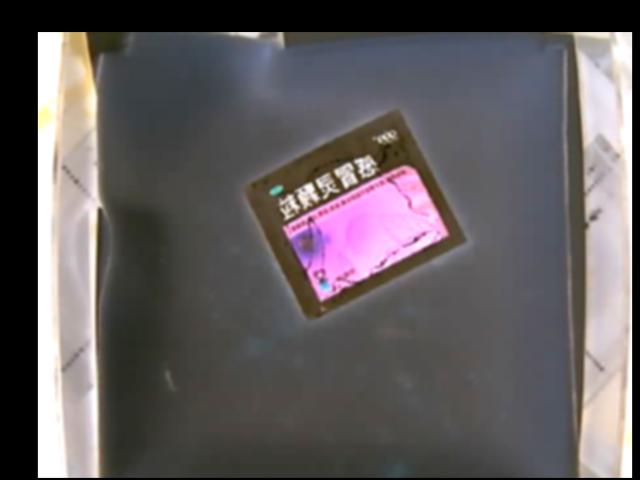Medicine: (248, 108, 472, 321)
